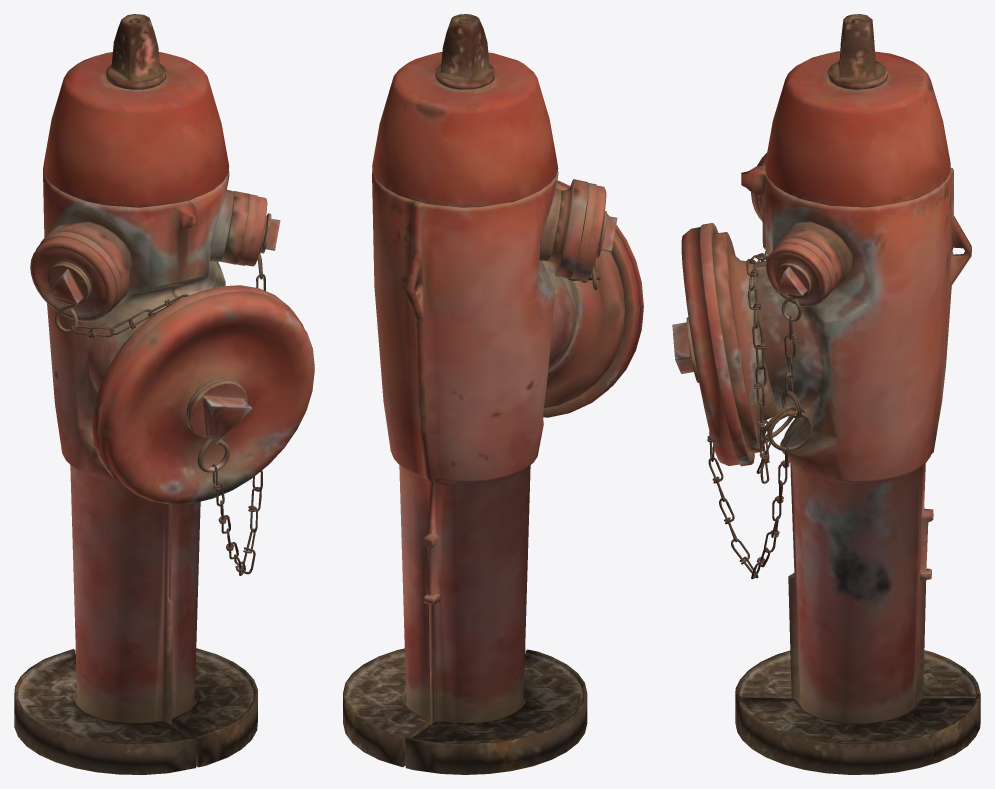
The model's file is fire_hydrant.glb.
3 renders of one model, left to right at view 1: azimuth 30°, elevation 25°; view 2: azimuth 150°, elevation 25°; view 3: azimuth 270°, elevation 25°, orthographic.
Visible parts, largest first — view 1: fire_hydrant_mesh; view 2: fire_hydrant_mesh; view 3: fire_hydrant_mesh.
Part boxes in pixels (x1,y1,x2,y2): fire_hydrant_mesh: (14, 14, 314, 774); fire_hydrant_mesh: (343, 14, 643, 774); fire_hydrant_mesh: (672, 14, 980, 774).
Bounding box in the file's own units: 0.2746 × 0.7994 × 0.3173.
1 material, 1 textured.
